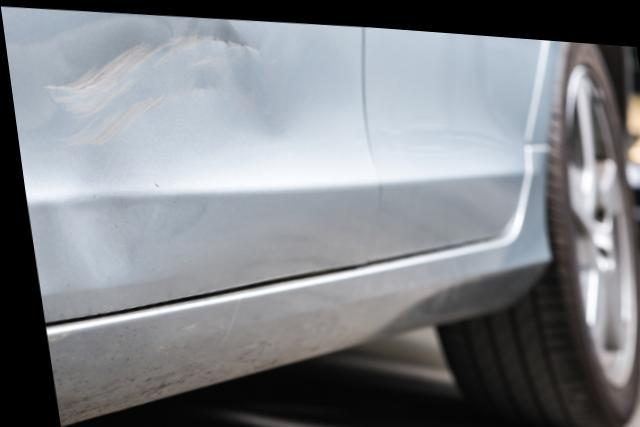dent: (13, 11, 355, 295)
